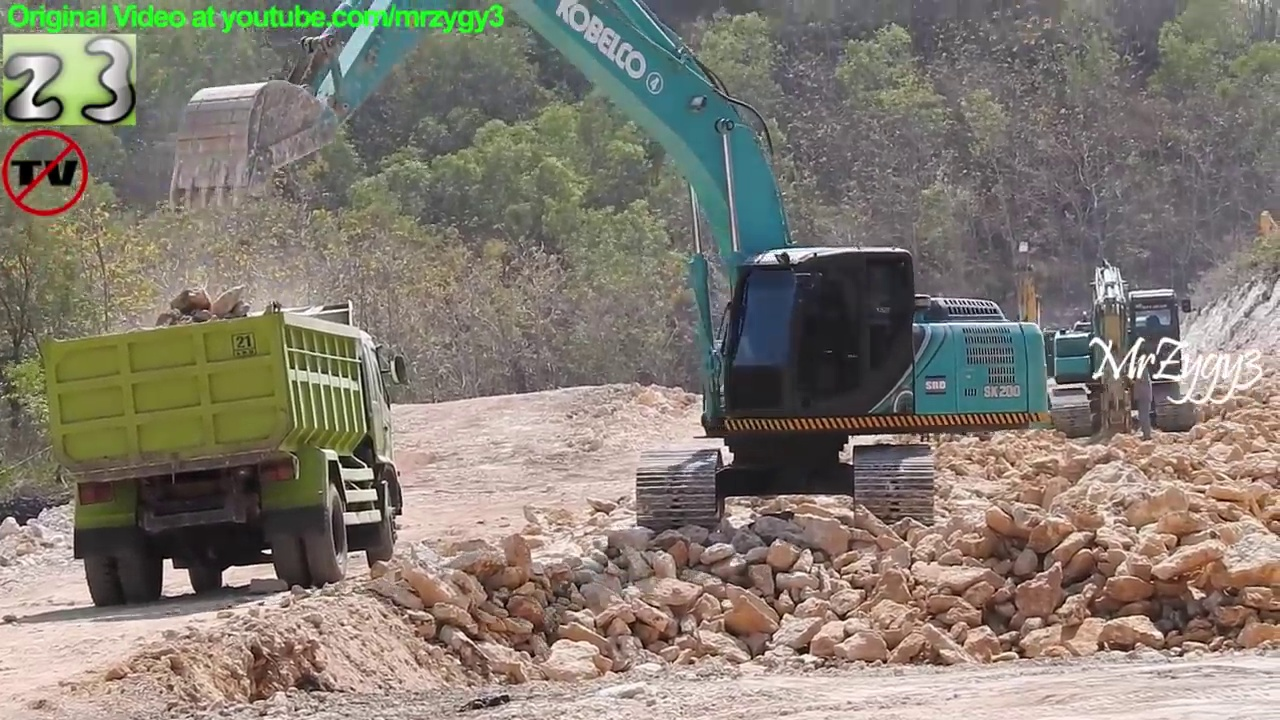excavator: (161, 1, 1054, 541), (958, 262, 1112, 437)
excavator breaker: (1041, 255, 1206, 447)
truck: (34, 293, 416, 614)
worker: (1122, 341, 1164, 445)
